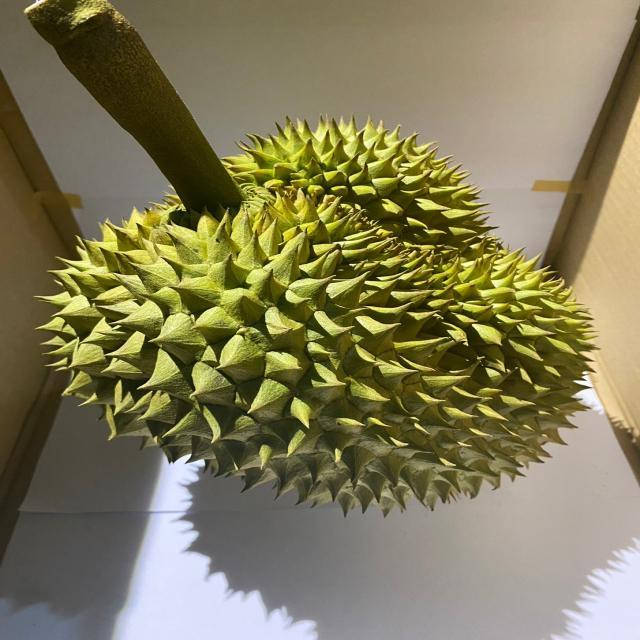immature: (36, 119, 600, 516)
